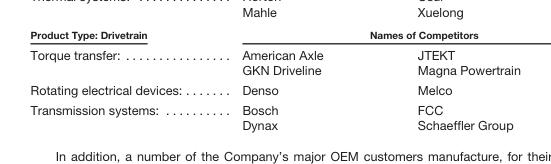table: (29, 28, 519, 132)
table column: (29, 28, 211, 132), (211, 28, 369, 132), (369, 28, 519, 132)
table column header: (29, 28, 519, 79)
table row: (29, 43, 519, 79), (29, 79, 519, 99), (29, 99, 519, 117), (29, 28, 519, 43), (29, 117, 519, 132)
table spanning cell: (29, 28, 211, 79), (29, 99, 211, 132), (211, 28, 519, 43)
